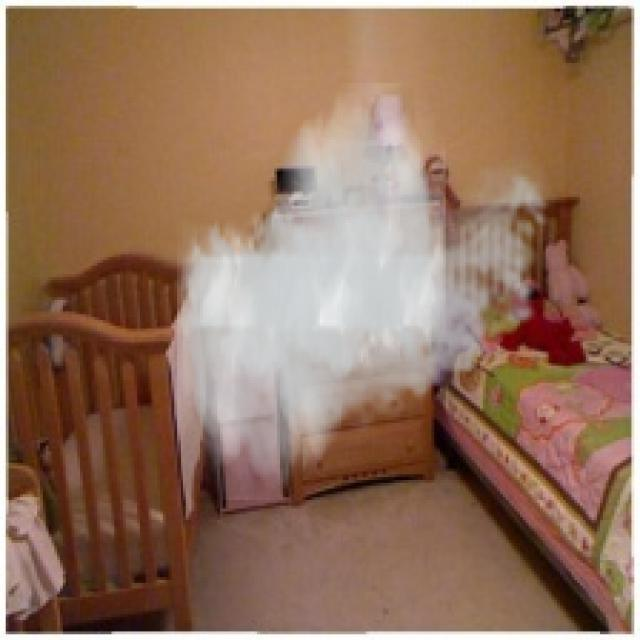Smoke: (177, 83, 560, 500)
